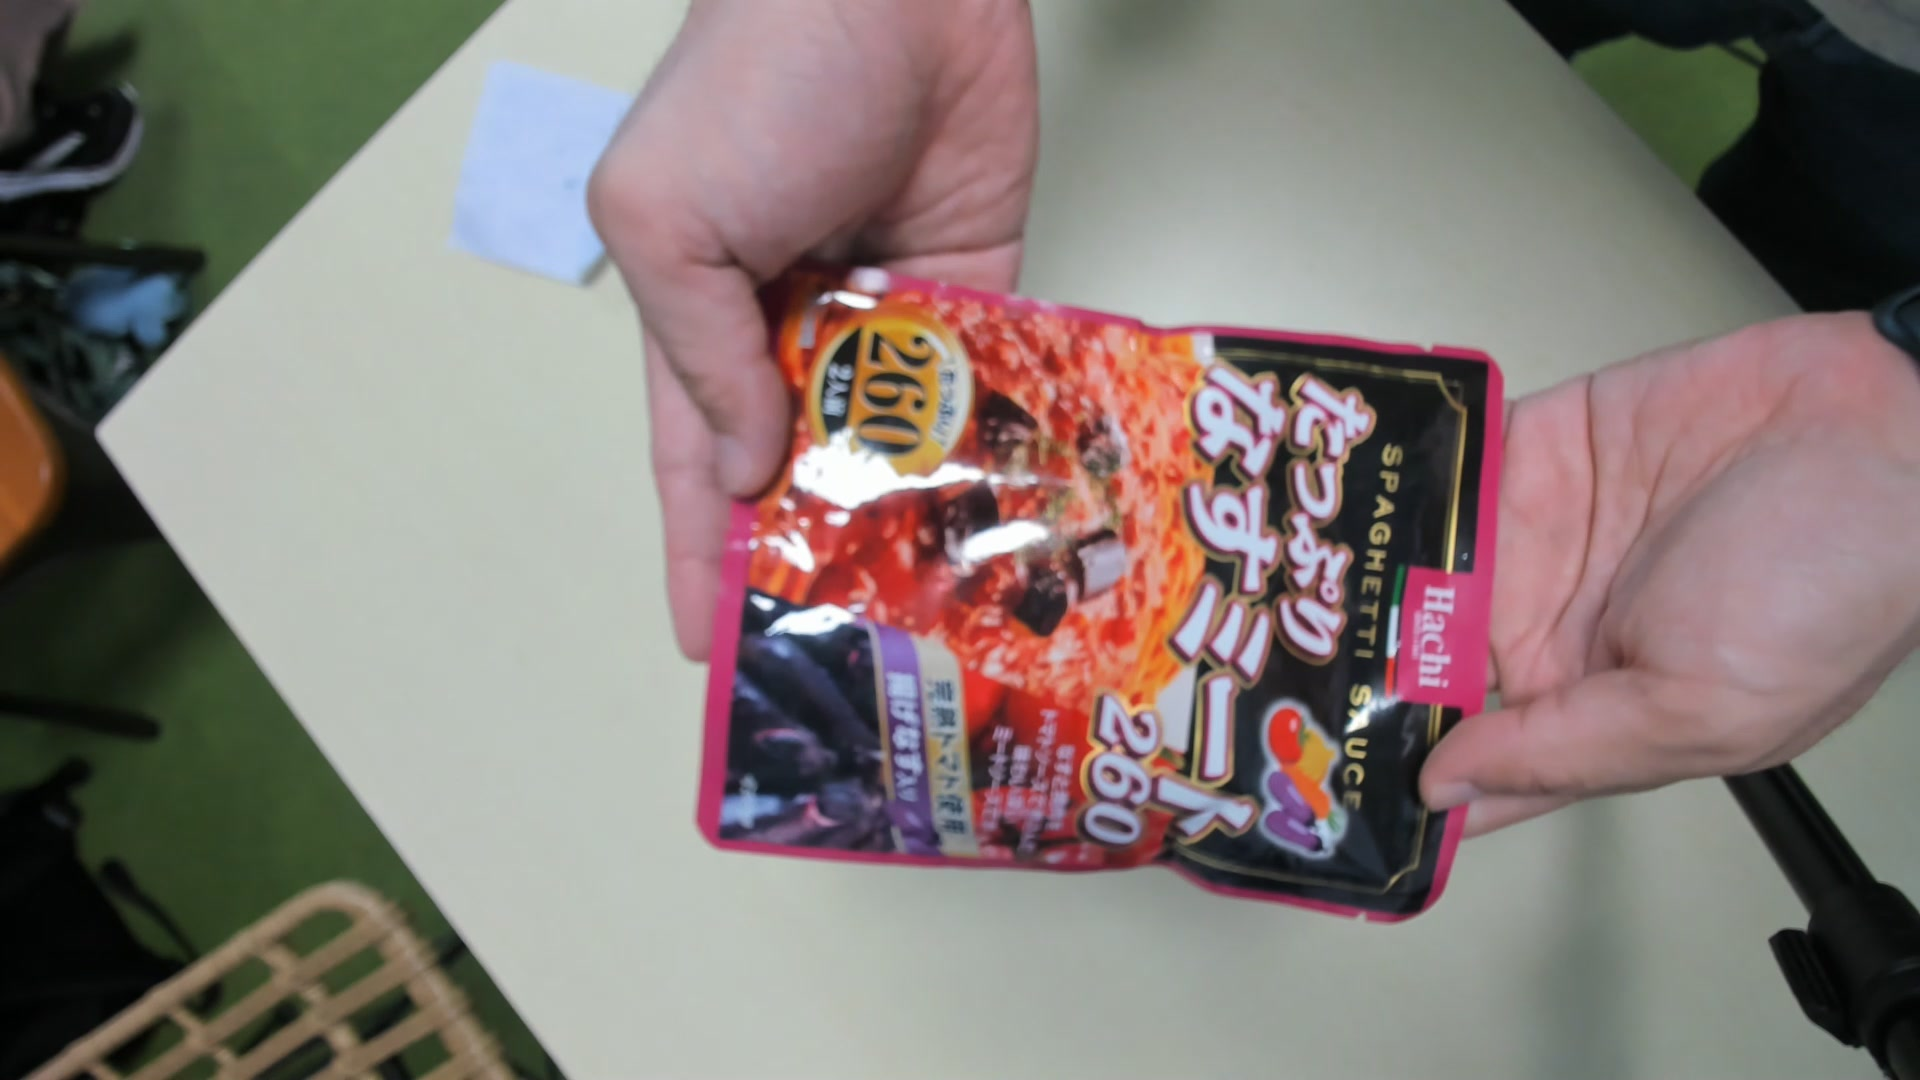PastaSauce_200-299g_NonHalal_NonHealthy: (709, 272, 1491, 916)
